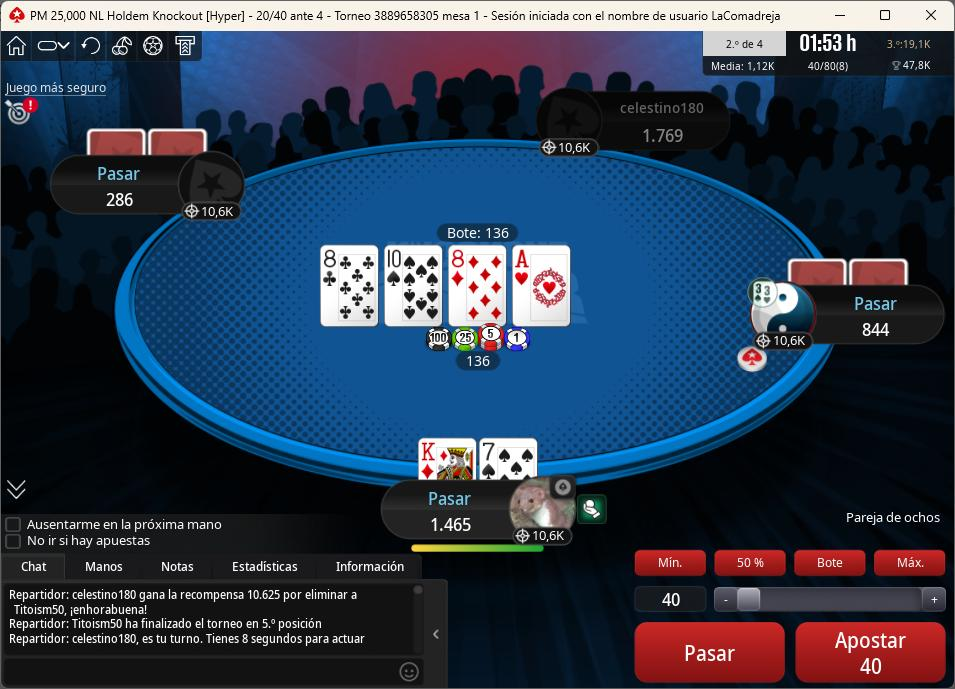ButtonCall: (628, 614, 784, 684)
ButtonMaxRaise: (874, 550, 945, 581)
ButtonMinRaise: (633, 548, 711, 580)
ButtonPotRaise: (793, 548, 871, 580)
ButtonRaise: (792, 618, 947, 684)
HiddenCards: (84, 131, 211, 160), (787, 259, 913, 286)
Player: (748, 283, 952, 351), (49, 151, 247, 216), (546, 92, 734, 159)
PlayerChips: (633, 125, 692, 144), (854, 322, 897, 342), (99, 192, 140, 211)
Pot: (434, 223, 520, 243)
PrincipalCards: (411, 436, 543, 483)
PrincipalCards1: (415, 437, 479, 482)
PrincipalCards2: (478, 436, 539, 480)
PrincipalPlayer: (385, 475, 588, 551)
PrincipalPlayerChips: (422, 517, 481, 537)
ShowedCards: (318, 245, 573, 329)
ShowedCards1: (321, 243, 380, 326)
ShowedCards2: (382, 244, 445, 328)
ShowedCards3: (447, 245, 508, 328)
ShowedCards4: (509, 243, 572, 327), (511, 244, 572, 330)
SmallBigBlind: (244, 5, 337, 25)
TablePot: (419, 323, 549, 381)
